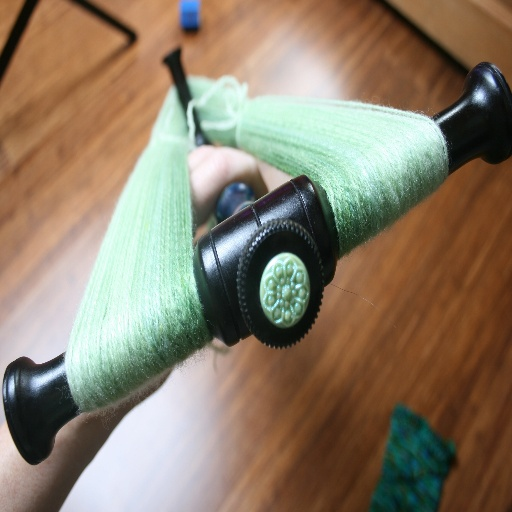hand: (142, 142, 267, 400)
